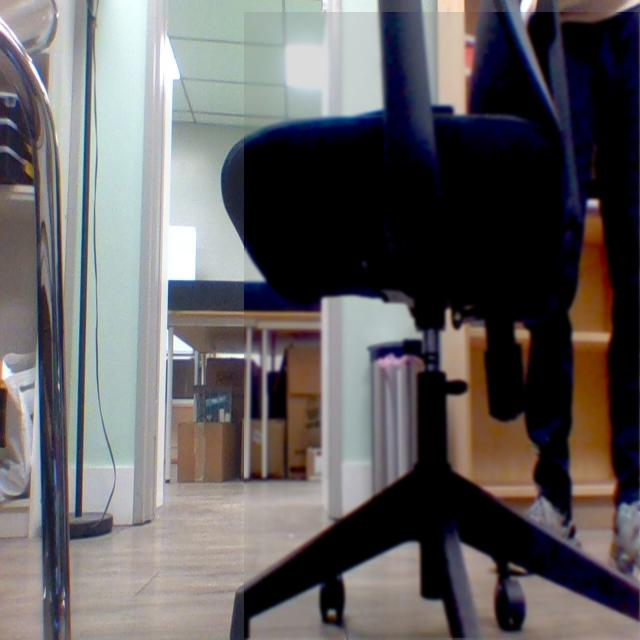black-chair: (244, 12, 640, 639)
